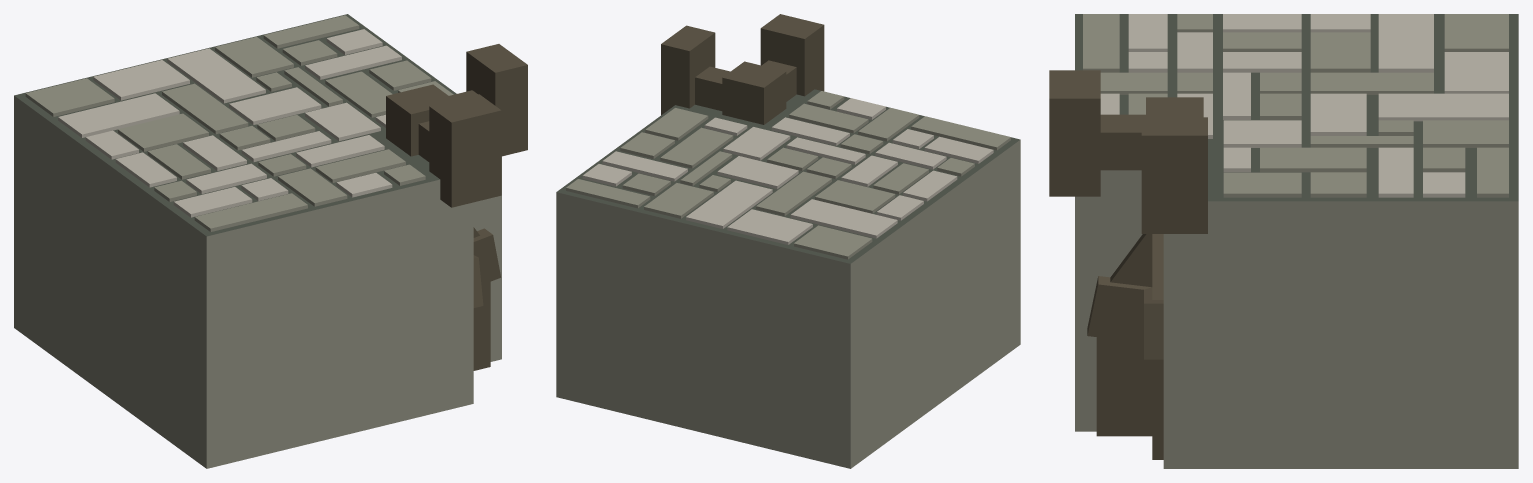
Rendered from InnerCorner.fbx.
3 views of the same model, side by side, from view 1: azimuth 30°, elevation 25°; view 2: azimuth 150°, elevation 25°; view 3: azimuth 270°, elevation 25° (orthographic). The views are drawn at different scales.
Visible parts, largest first — view 1: Stone Bridge - Inner Corner; view 2: Stone Bridge - Inner Corner; view 3: Stone Bridge - Inner Corner.
Part boxes in pixels (x1,y1,x2,y2): Stone Bridge - Inner Corner: [14, 14, 527, 468]; Stone Bridge - Inner Corner: [556, 14, 1020, 468]; Stone Bridge - Inner Corner: [1049, 14, 1518, 468].
Size of the model in its own units: 105 by 85.16 by 106.
